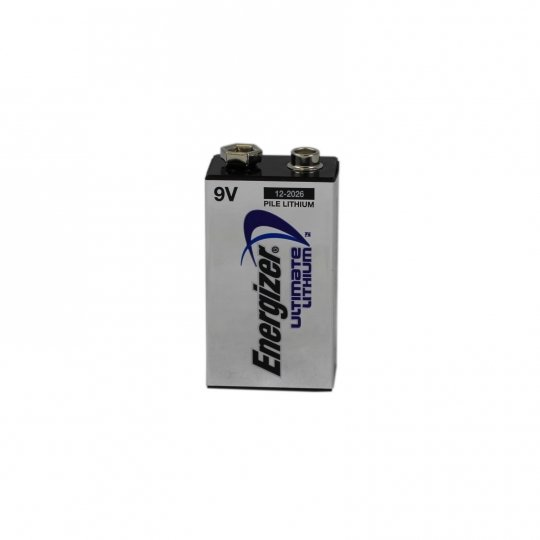9V: (200, 141, 350, 397)
